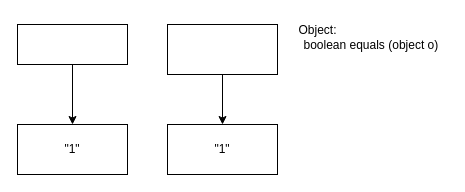
Image size: 465x192. Some labels were removed from this diagram. Each missing label, with the box of its shape:
e1: (16, 24, 128, 64)
e2: (166, 24, 278, 74)
